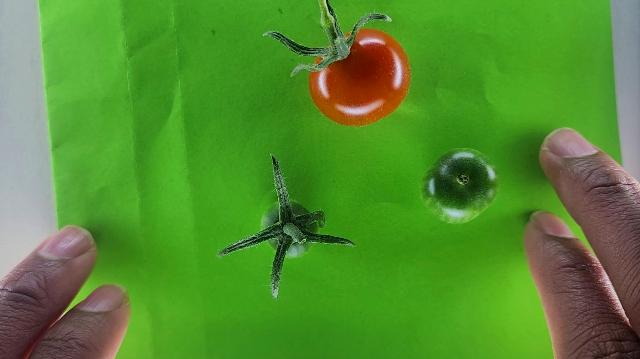Fruit Maturation: (419, 147, 501, 226), (262, 201, 318, 259)
Fully Grown: (306, 25, 413, 127)
